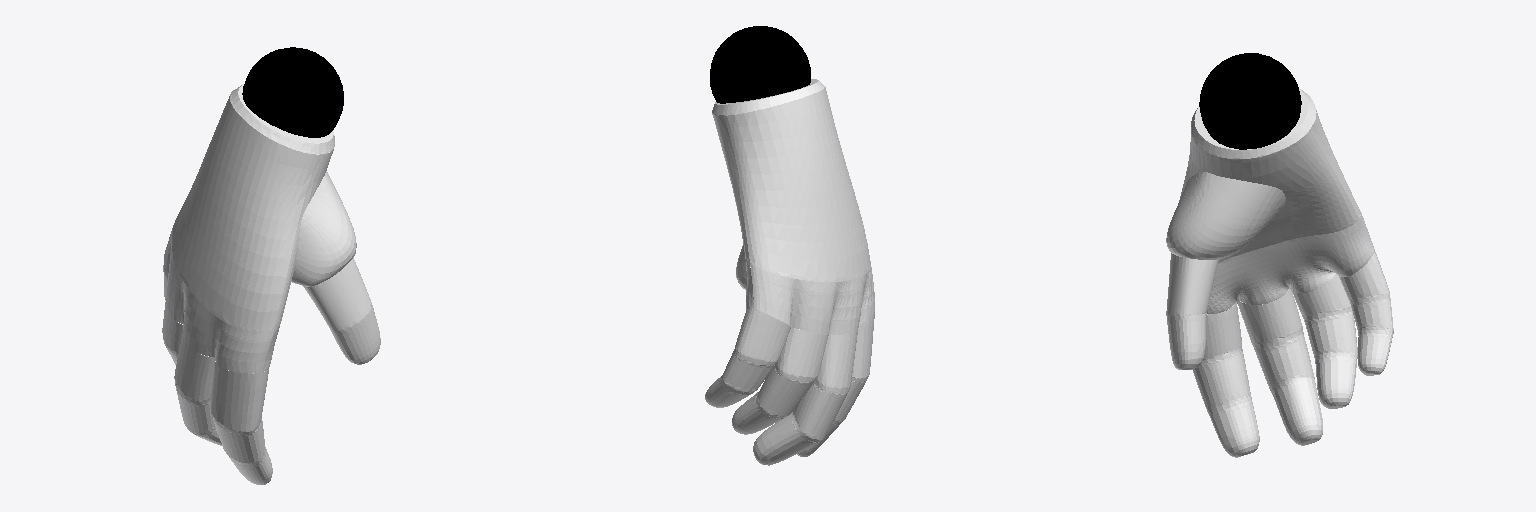
Rendered from hand.obj.
3 views of the same model, side by side, from view 1: azimuth 30°, elevation 25°; view 2: azimuth 150°, elevation 25°; view 3: azimuth 270°, elevation 25° (orthographic).
Visible parts, largest first — view 1: Sup15; view 2: Sup15; view 3: Sup15.
Part boxes in pixels (x1,y1,x2,y2): Sup15: (162,47,380,484); Sup15: (705,26,874,465); Sup15: (1166,53,1393,457).
Size of the model in its own units: 3.13 by 8.12 by 4.01.